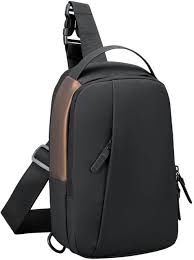bag: (14, 13, 193, 260)
